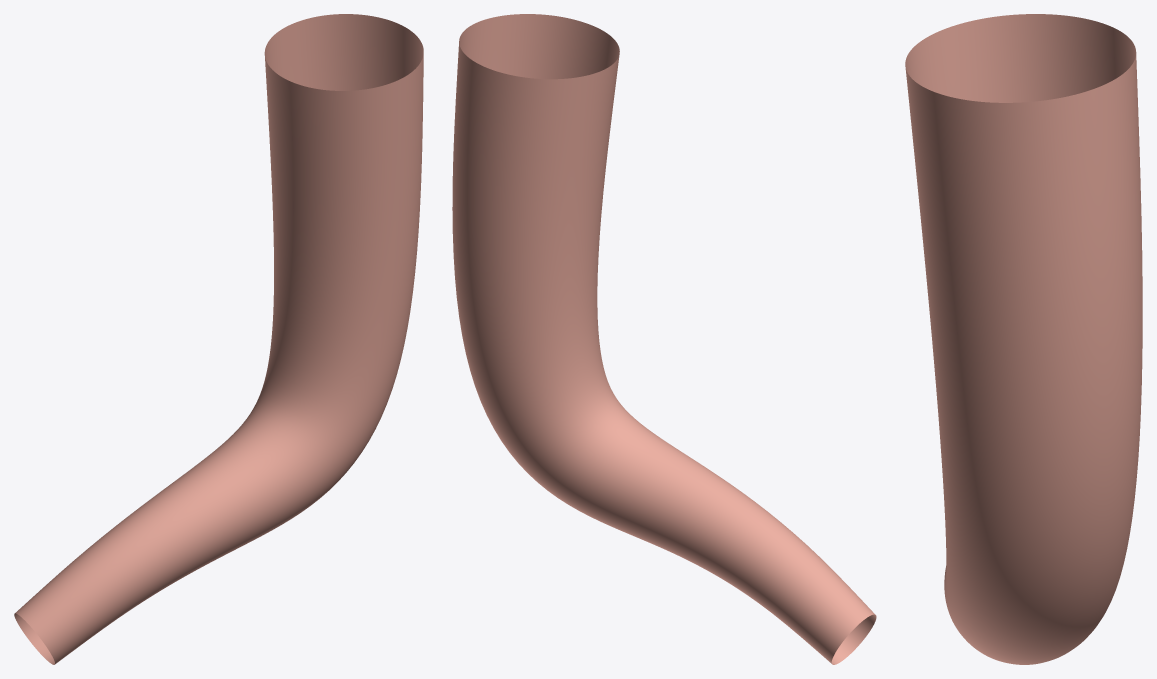
File: Trompa de Falopio Izquierda2.fbx
The picture shows the model from 3 angles, left to right: view 1: azimuth 30°, elevation 25°; view 2: azimuth 150°, elevation 25°; view 3: azimuth 270°, elevation 25°; orthographic projection. The views are drawn at different scales.
Visible parts, largest first — view 1: BezierCurve_002; view 2: BezierCurve_002; view 3: BezierCurve_002.
Boxes of the visible parts, x1=… form: BezierCurve_002: x1=14, y1=14, x2=423, y2=664; BezierCurve_002: x1=452, y1=14, x2=876, y2=664; BezierCurve_002: x1=905, y1=14, x2=1142, y2=664.
Size of the model in its own units: 5.72 by 7.49 by 2.05.
